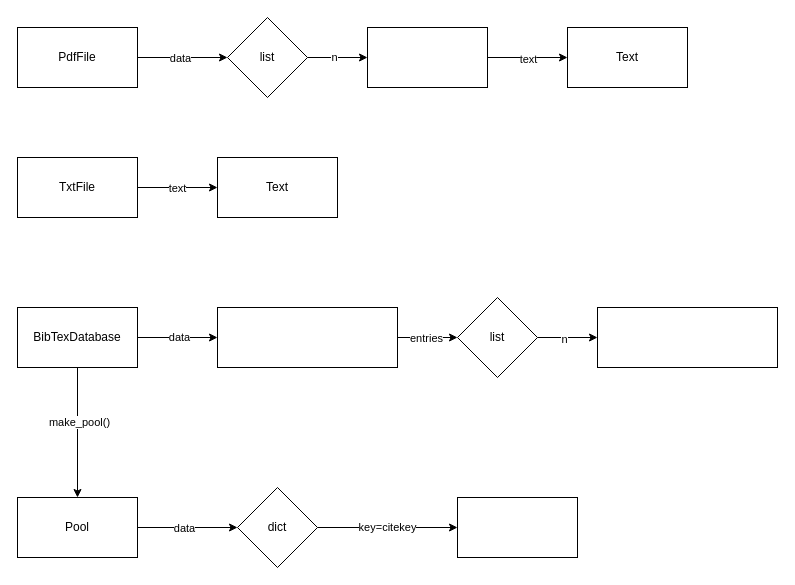
This 795x585 diagram has some shape labels left out. The centre of each missing label's shape, as x and y in pixels:
bibtexparser.library.Library: the point at 307,337
bibtexparser.model.Entry: the point at 687,337
PdfPage: the point at 427,57
PoolItem: the point at 517,527
